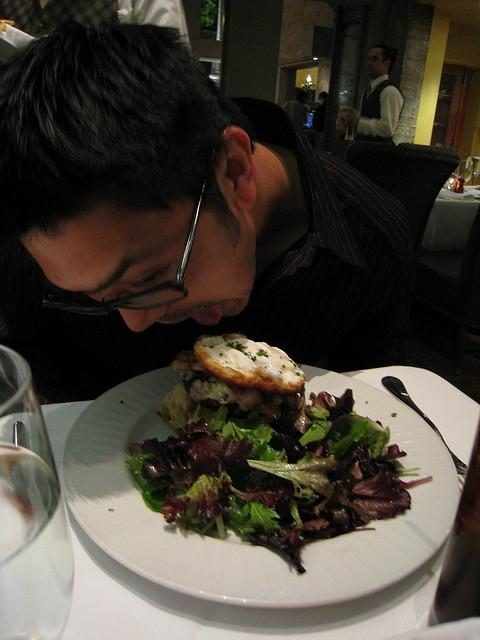lettuce: (338, 463, 433, 524), (246, 450, 340, 510), (184, 418, 255, 494), (161, 469, 233, 523), (326, 411, 390, 462), (125, 449, 172, 515), (249, 524, 306, 574), (229, 484, 294, 508), (215, 422, 274, 446), (245, 501, 283, 536), (318, 388, 356, 422), (286, 395, 313, 441), (299, 420, 332, 446), (247, 441, 281, 462), (205, 405, 228, 432), (292, 481, 319, 503), (376, 444, 406, 461)
